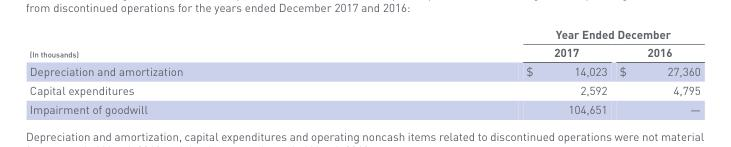table: (28, 28, 699, 115)
table column: (28, 28, 353, 115), (353, 28, 612, 115), (612, 28, 699, 115)
table column header: (28, 28, 699, 62)
table row: (28, 43, 699, 62), (28, 62, 699, 81), (28, 81, 699, 100), (28, 28, 699, 43), (28, 100, 699, 115)
table spanning cell: (28, 28, 353, 62), (353, 28, 699, 43)
